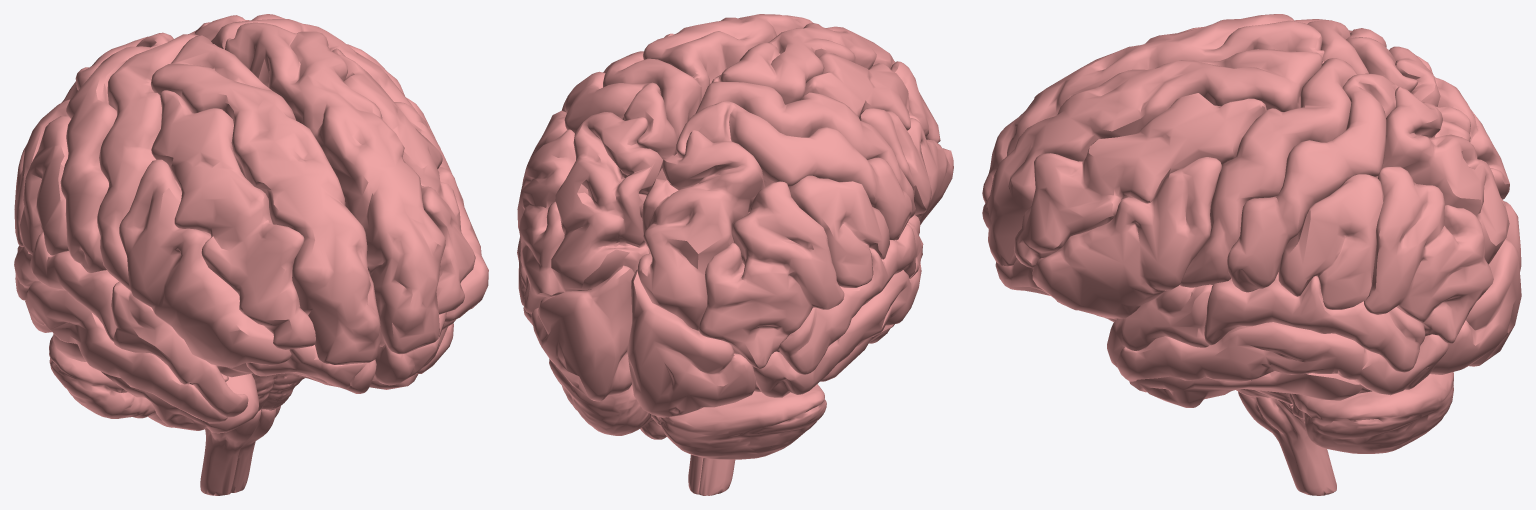
Rendered from brain.glb.
3 renders of one model, left to right at view 1: azimuth 30°, elevation 25°; view 2: azimuth 150°, elevation 25°; view 3: azimuth 270°, elevation 25°, orthographic. The views are drawn at different scales.
Parts seen in each view (by area): view 1: segment of brain; view 2: segment of brain; view 3: segment of brain.
Part boxes in pixels (x1,y1,x2,y2): segment of brain: (14,14,488,495); segment of brain: (517,14,953,495); segment of brain: (982,14,1521,495).
Bounding box in the file's own units: 0.1408 × 0.1659 × 0.18.
